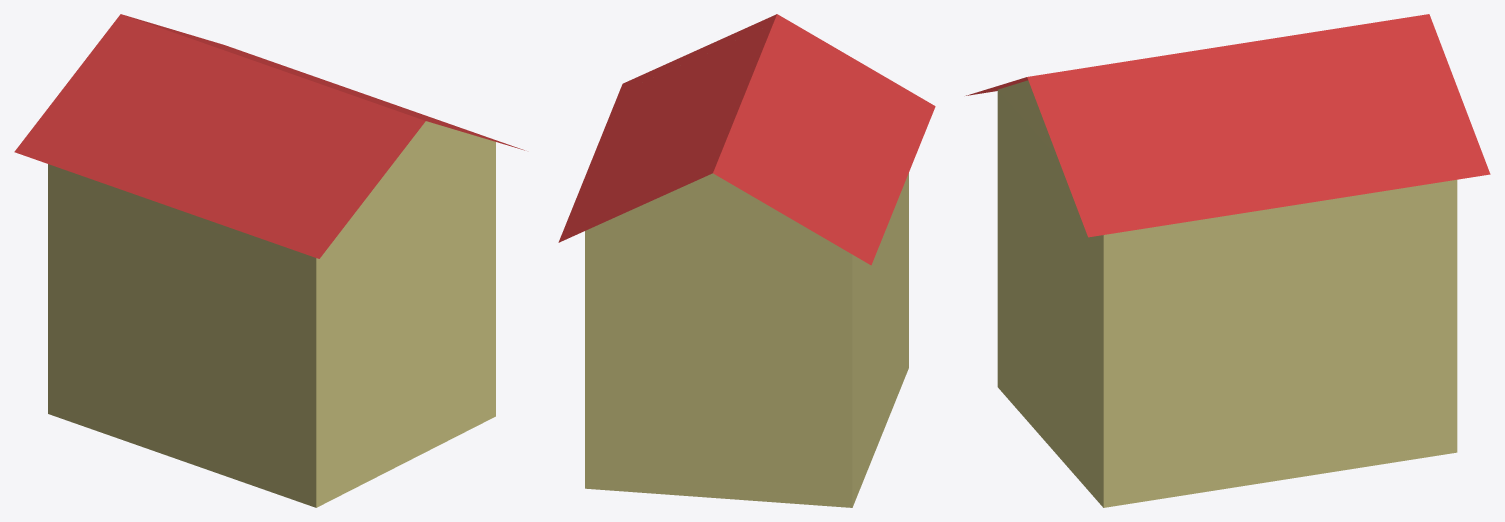
3 renders of one model, left to right at view 1: azimuth 30°, elevation 25°; view 2: azimuth 150°, elevation 25°; view 3: azimuth 270°, elevation 25°, orthographic. The views are drawn at different scales.
Size of the model in its own units: 13.97 by 15.21 by 11.98.
